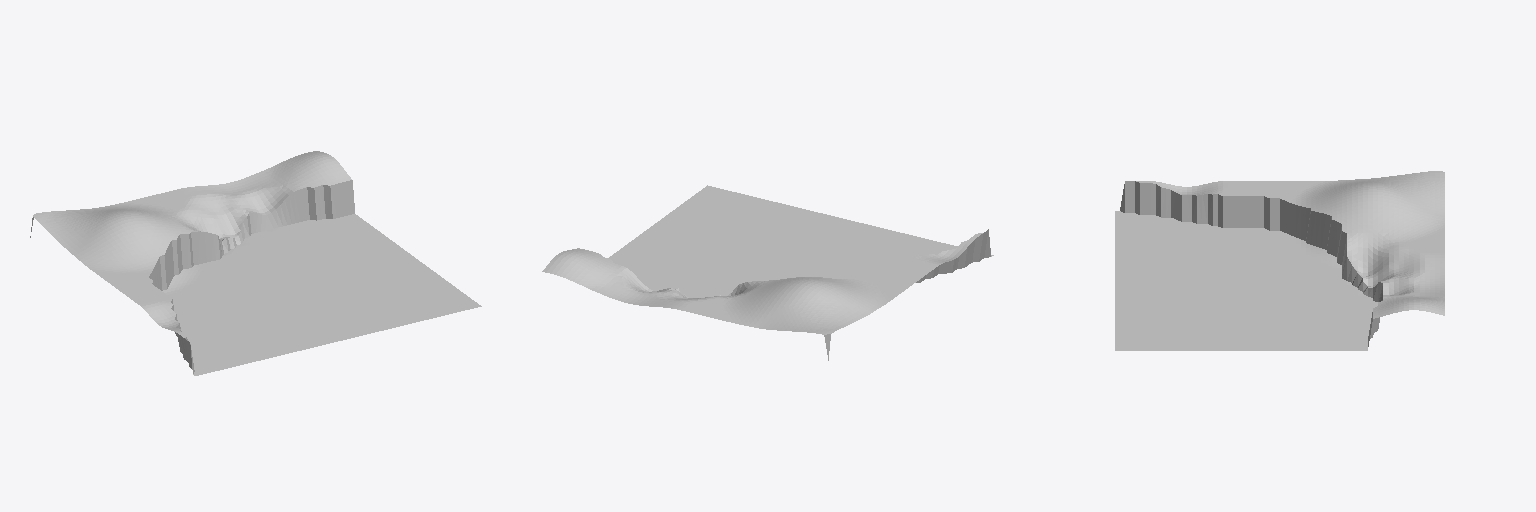
File: brzeg2.obj
The picture shows the model from 3 angles: view 1: azimuth 30°, elevation 25°; view 2: azimuth 150°, elevation 25°; view 3: azimuth 270°, elevation 25°; orthographic projection.
Visible parts, largest first — view 1: Plane; view 2: Plane; view 3: Plane.
Part boxes in pixels (bbox=[...]): Plane: bbox=[30, 151, 481, 375]; Plane: bbox=[542, 185, 993, 360]; Plane: bbox=[1115, 171, 1444, 350].
Bounding box in the file's own units: 20 × 3.36 × 20.